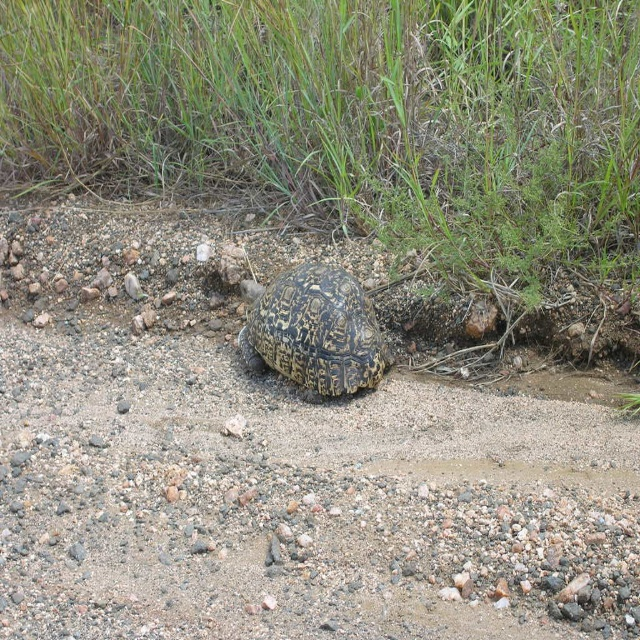Sea turtle: (238, 260, 394, 403)
